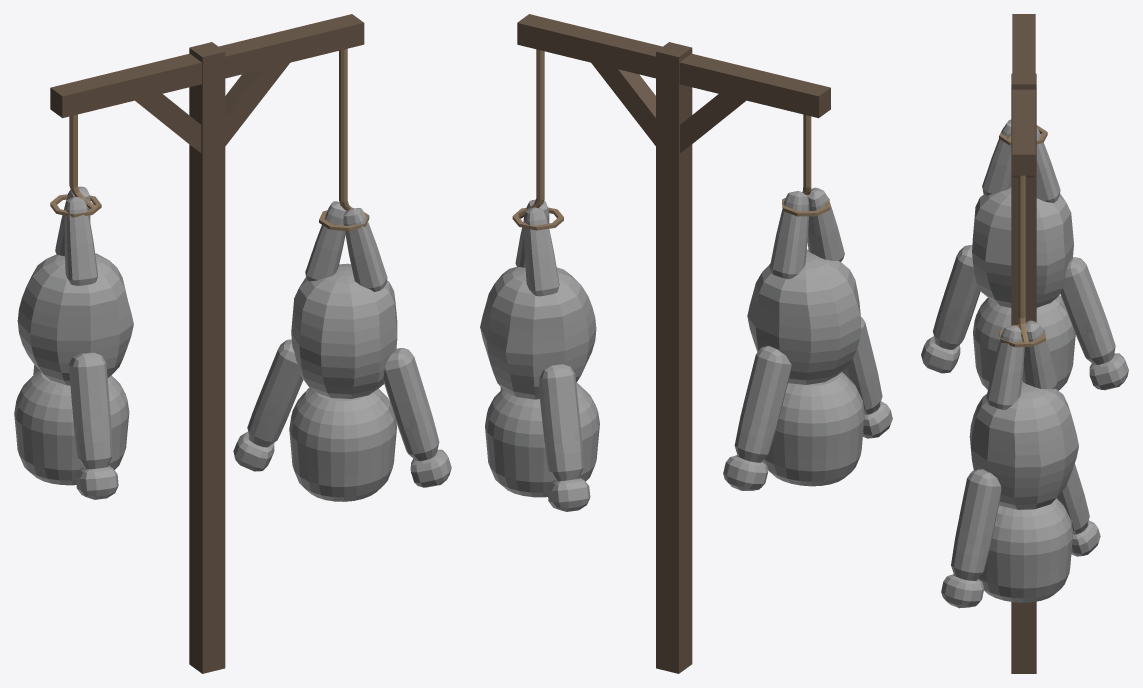
Rendered from hangman_4.glb.
3 views of the same model, side by side, from view 1: azimuth 30°, elevation 25°; view 2: azimuth 150°, elevation 25°; view 3: azimuth 270°, elevation 25° (orthographic). The views are drawn at different scales.
Visible parts, largest first — view 1: Cube.1079; view 2: Cube.1079; view 3: Cube.1079.
Part boxes in pixels (x1,y1,x2,y2): Cube.1079: (14, 14, 451, 673); Cube.1079: (480, 14, 892, 673); Cube.1079: (921, 14, 1128, 673).
Bounding box in the file's own units: 0.1396 × 0.2079 × 0.0665.
